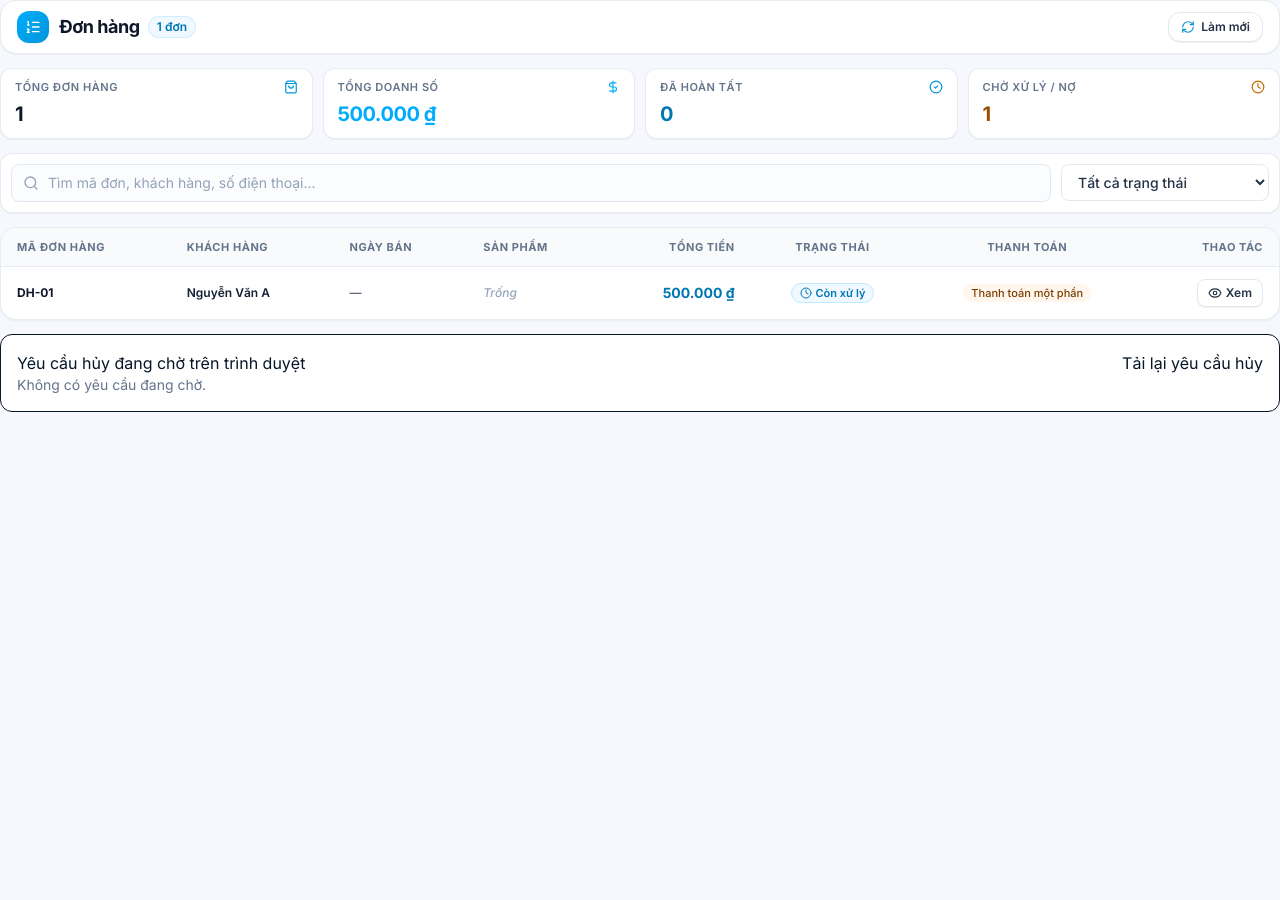
it: RetailOrdersPage › blocks collection for a legacy outstanding order without a customer
Click the button with aria-label "Xem chi tiết".
click(1230, 293)  # box [1197,279,1263,307]
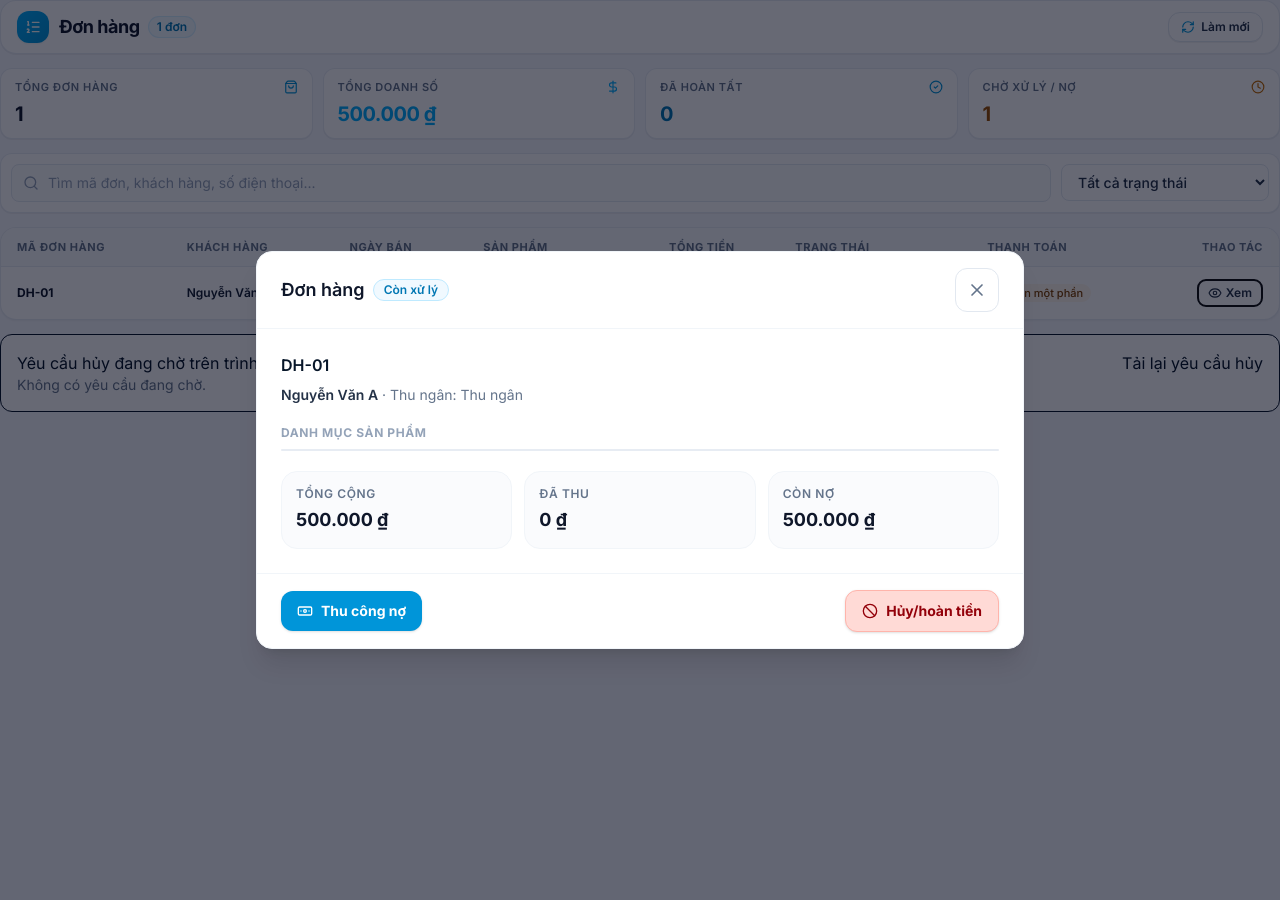
Now the heading "DH-01" is shown, box [281,355,329,375]
Click the button "Thu công nợ".
click(352, 611)  # box [281,591,422,631]
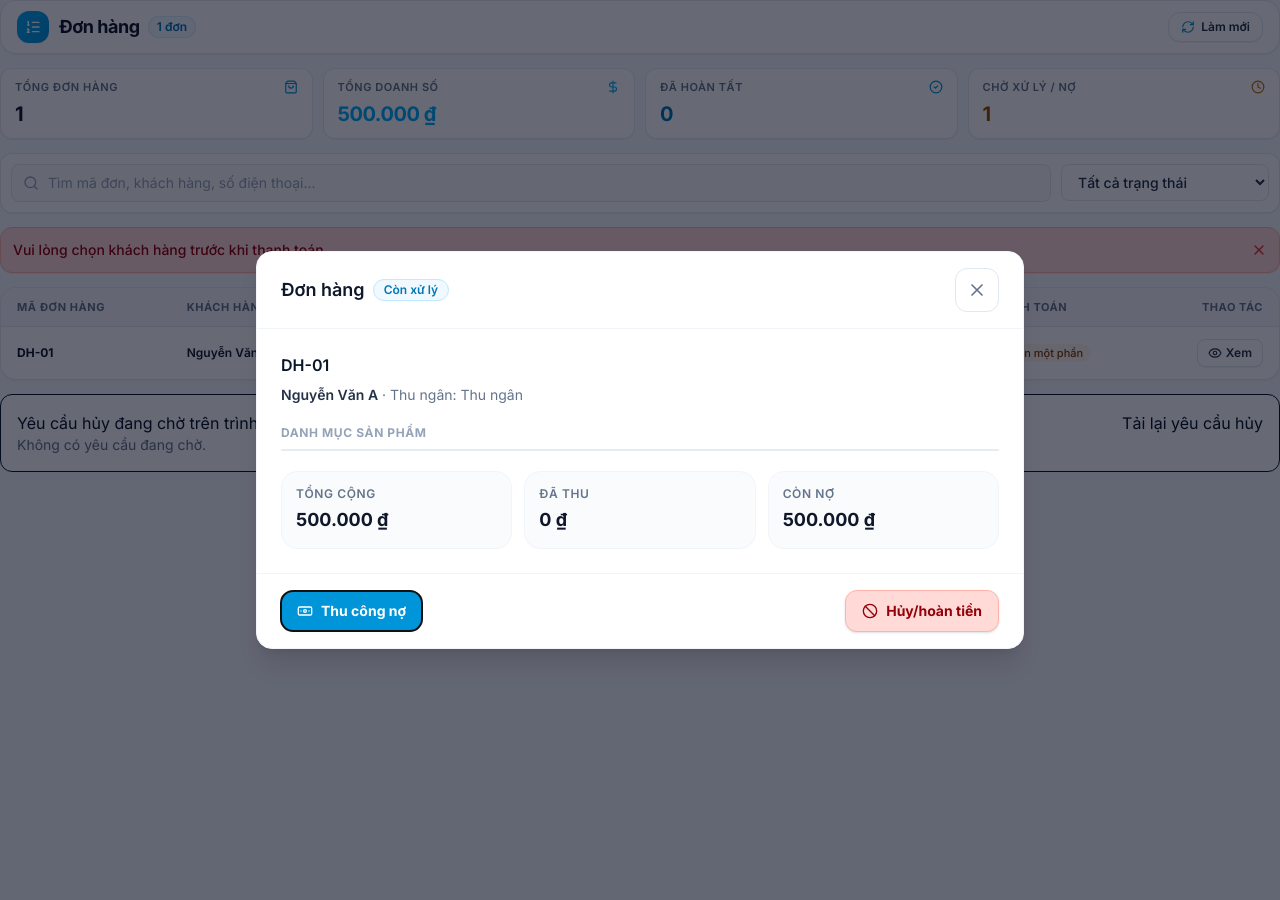
Now the text "Vui lòng chọn khách hàng trước khi thanh toán." is shown, box [13,240,328,260]
